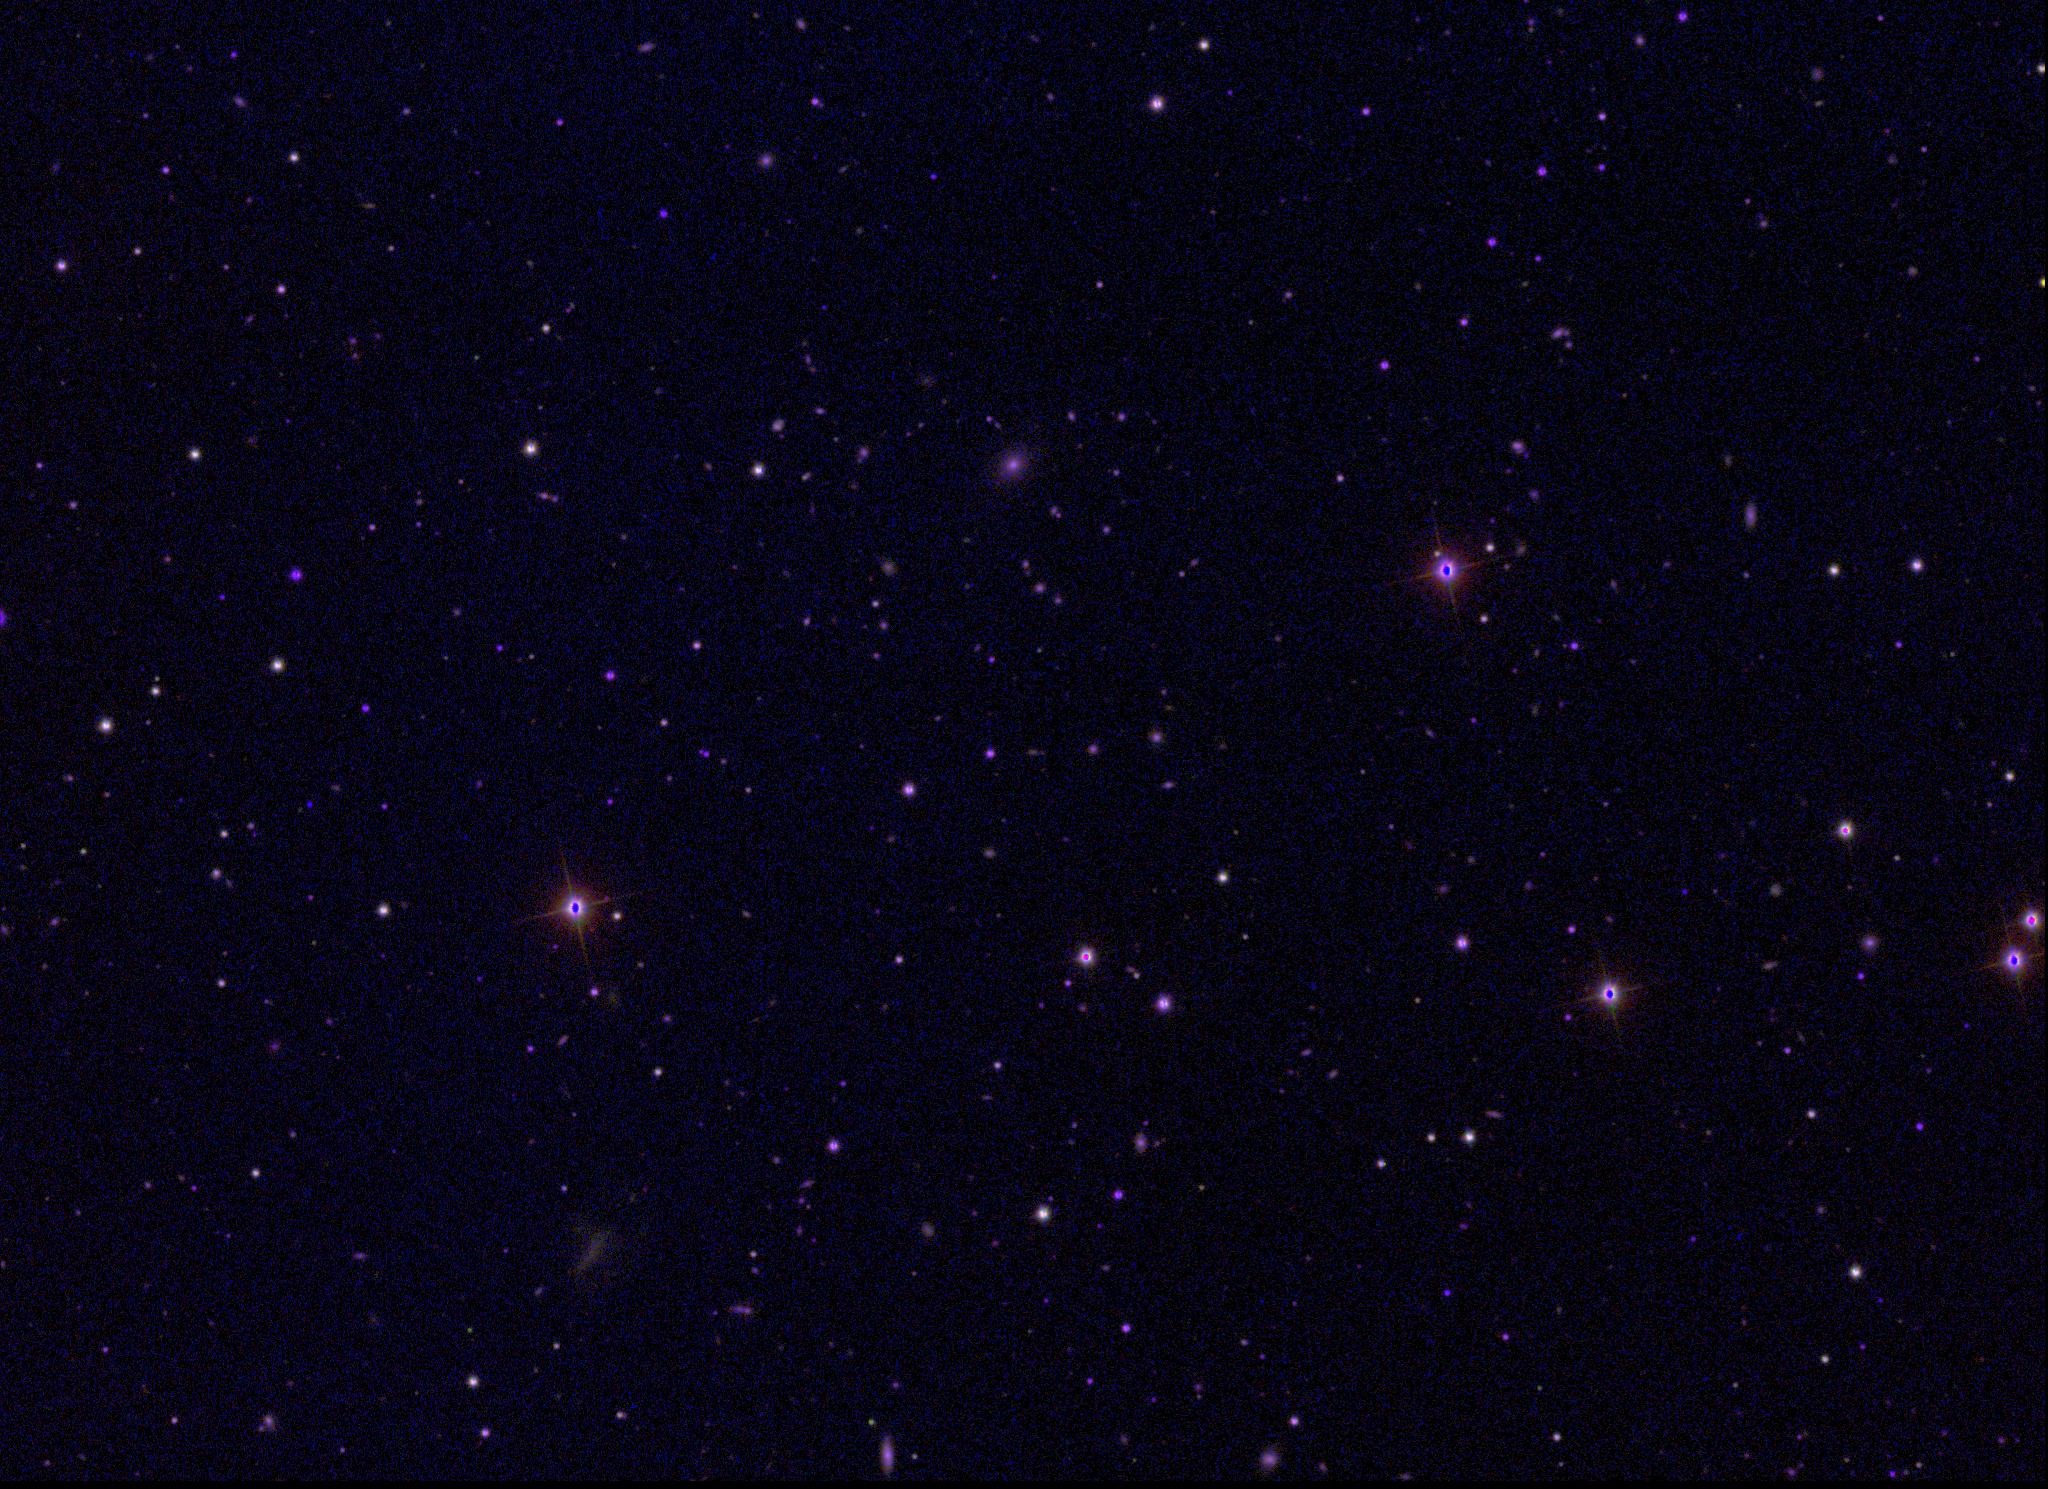L: (302, 797, 316, 811)
